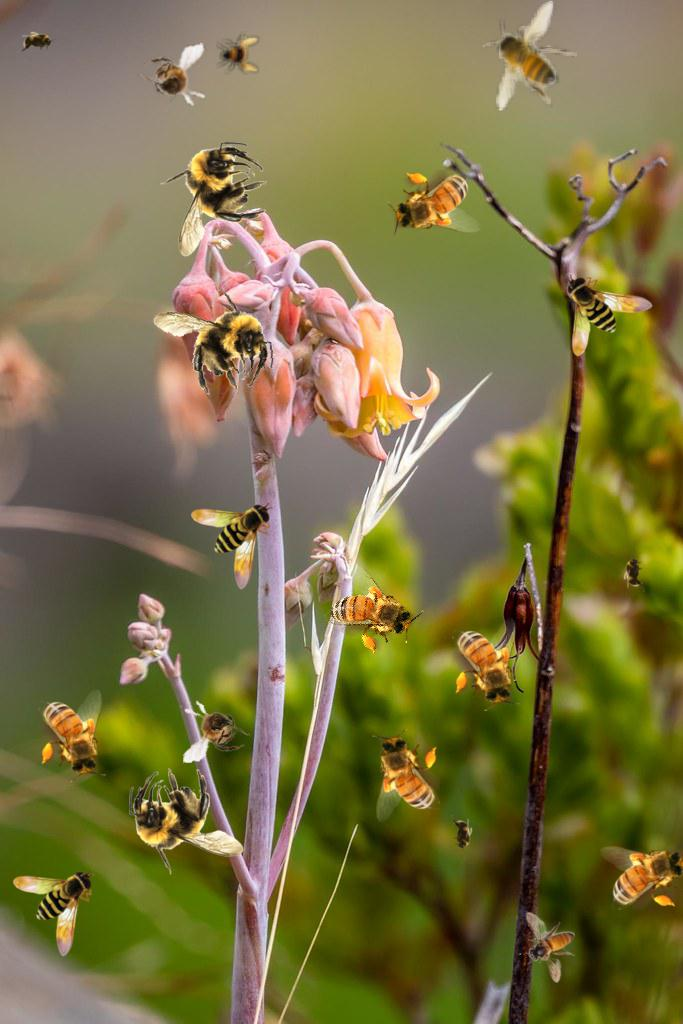Bee: (149, 281, 278, 402), (313, 556, 429, 669), (129, 768, 244, 875), (160, 142, 267, 257), (483, 0, 577, 111), (191, 502, 273, 590), (13, 869, 95, 957), (565, 274, 653, 356), (372, 729, 440, 822), (38, 689, 106, 782), (388, 169, 481, 237), (452, 618, 520, 711), (134, 42, 215, 116), (600, 842, 683, 910), (176, 694, 253, 764), (525, 912, 575, 983), (214, 29, 262, 77), (623, 552, 645, 592), (18, 31, 58, 53), (451, 815, 473, 855)
